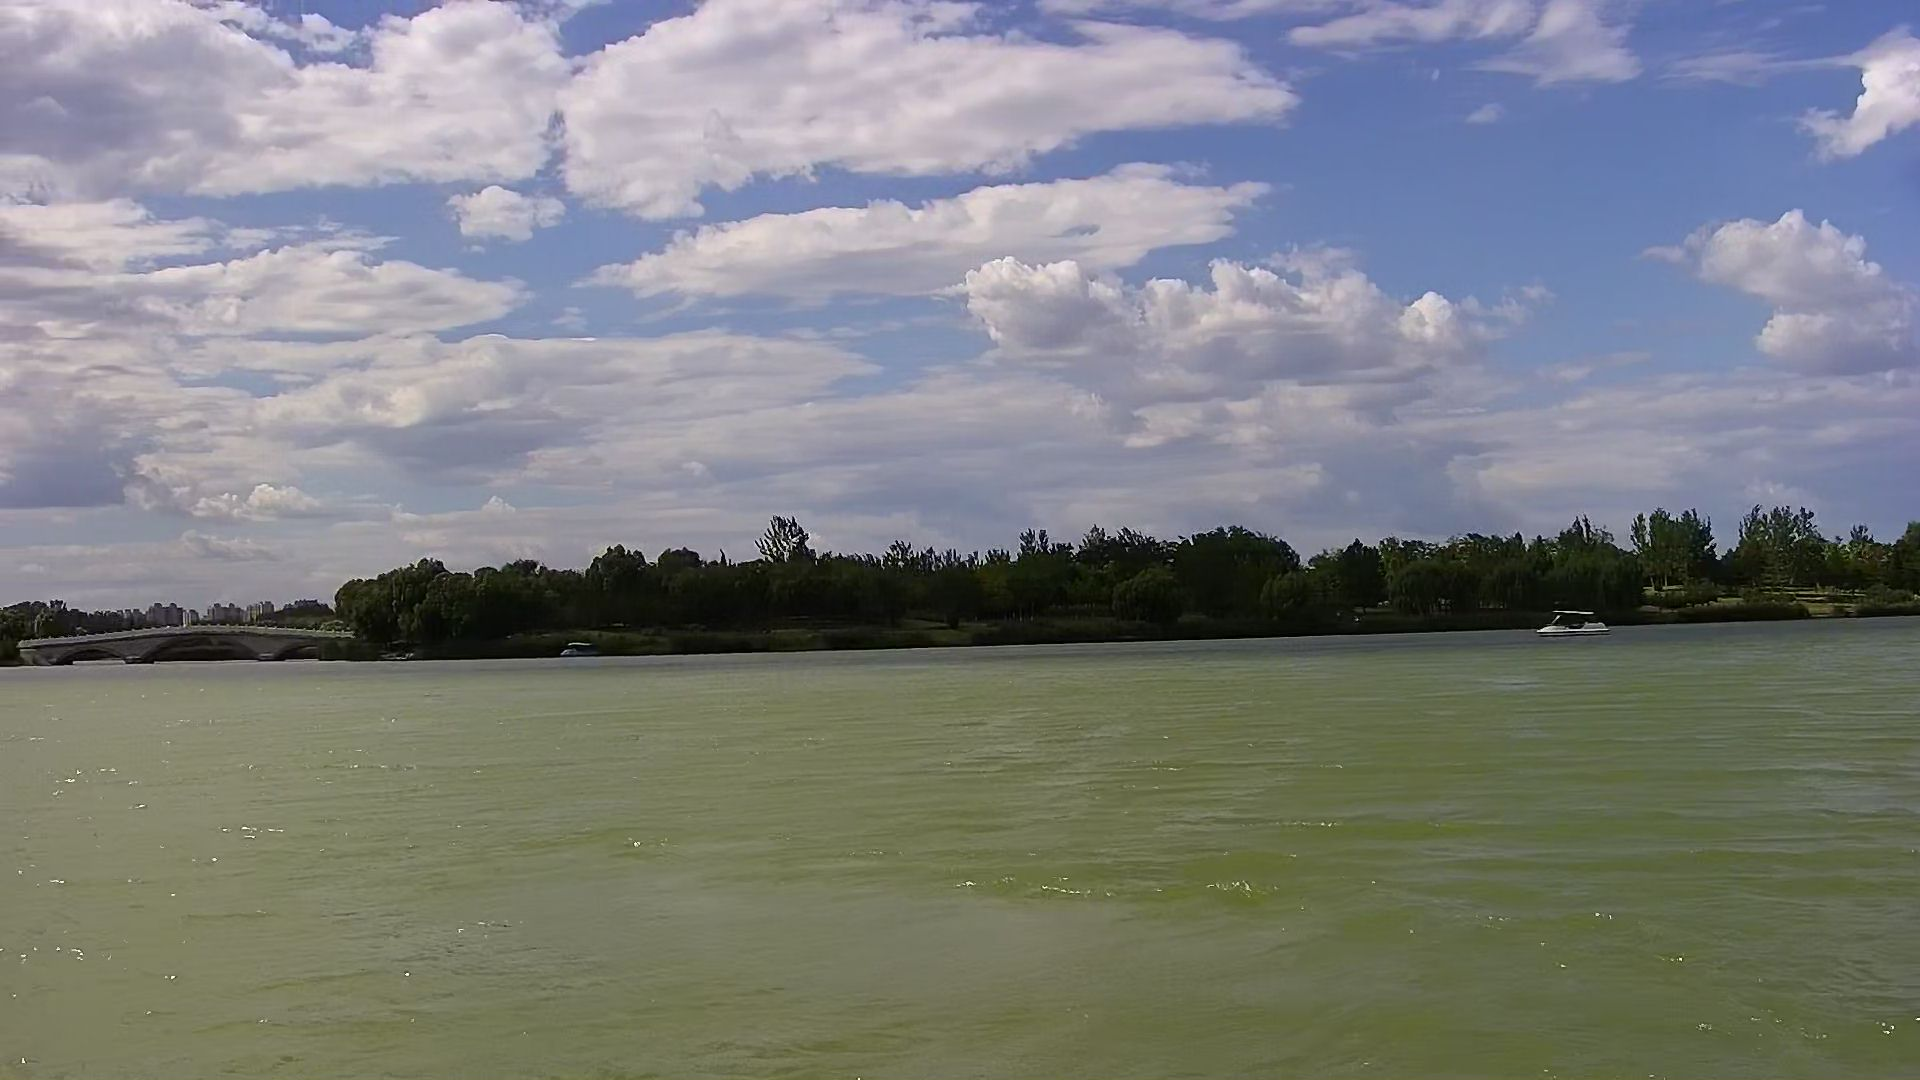boat: (1528, 605, 1617, 642), (555, 636, 609, 663)
bridge: (21, 626, 359, 661)
